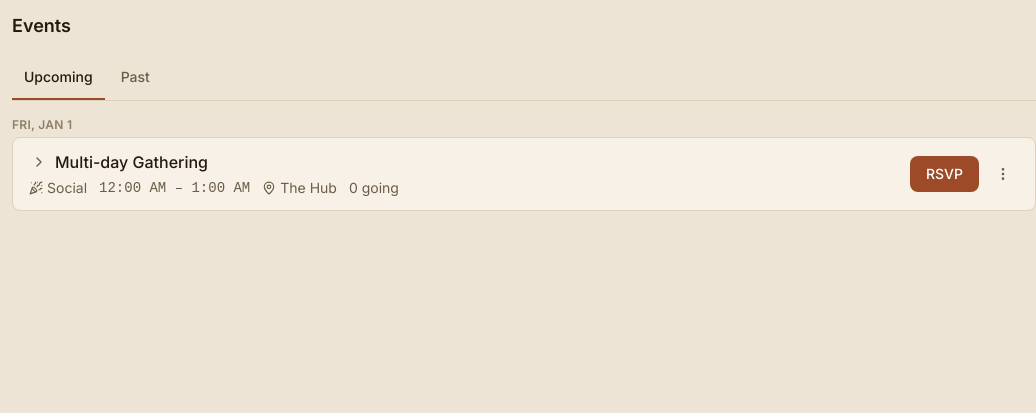
Test case: EventsSection › Approach B › shows day-headers when side-events span 2+ distinct days
Expected: the link "Multi-day Gathering" is shown, [55,150,208,174]
Click the button named "Expand side-events" at (39, 162), box [29,152,49,172]
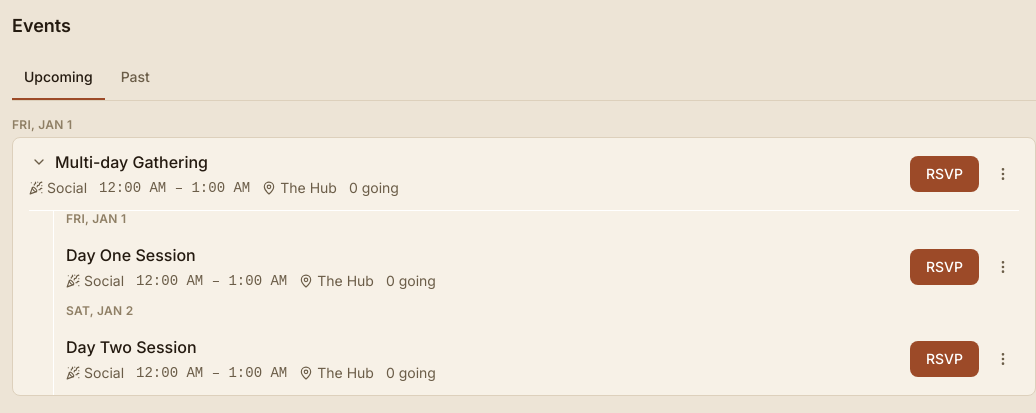
Now the link "Day One Session" is shown, box [66,243,196,267]
Now the link "Day Two Session" is shown, box [66,335,196,359]
